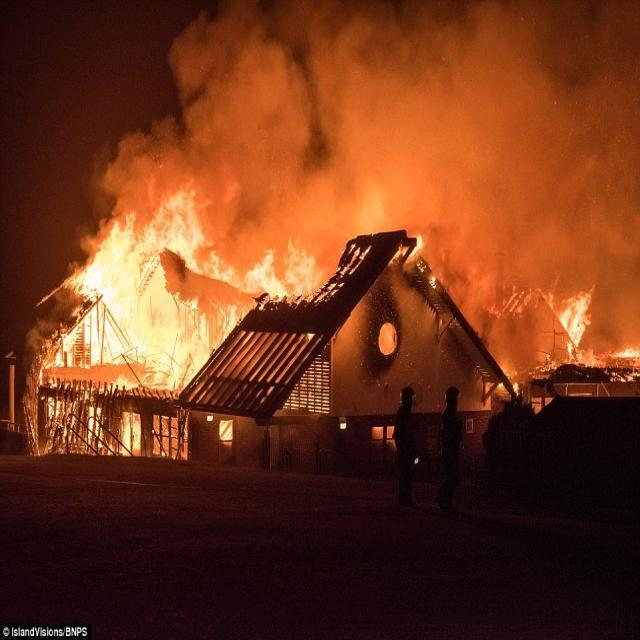Fire: (29, 184, 371, 461), (500, 280, 640, 394), (386, 230, 436, 290)
Smoke: (27, 1, 640, 377)
